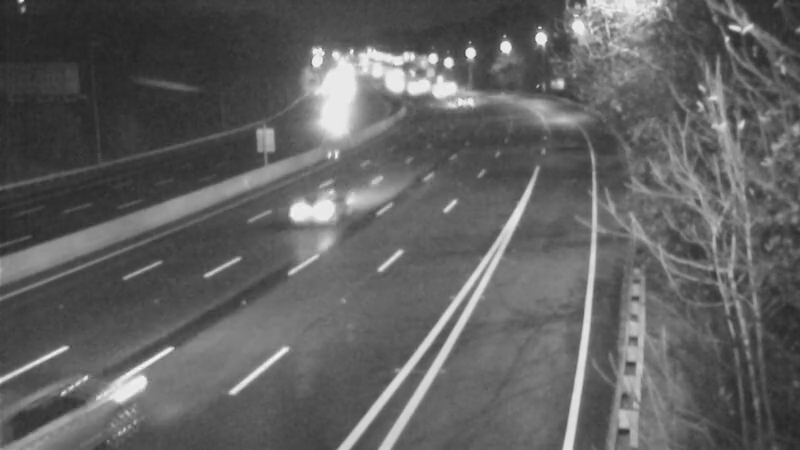vehicle: (14, 344, 124, 450), (278, 169, 358, 249), (431, 74, 481, 124), (303, 95, 353, 145)
